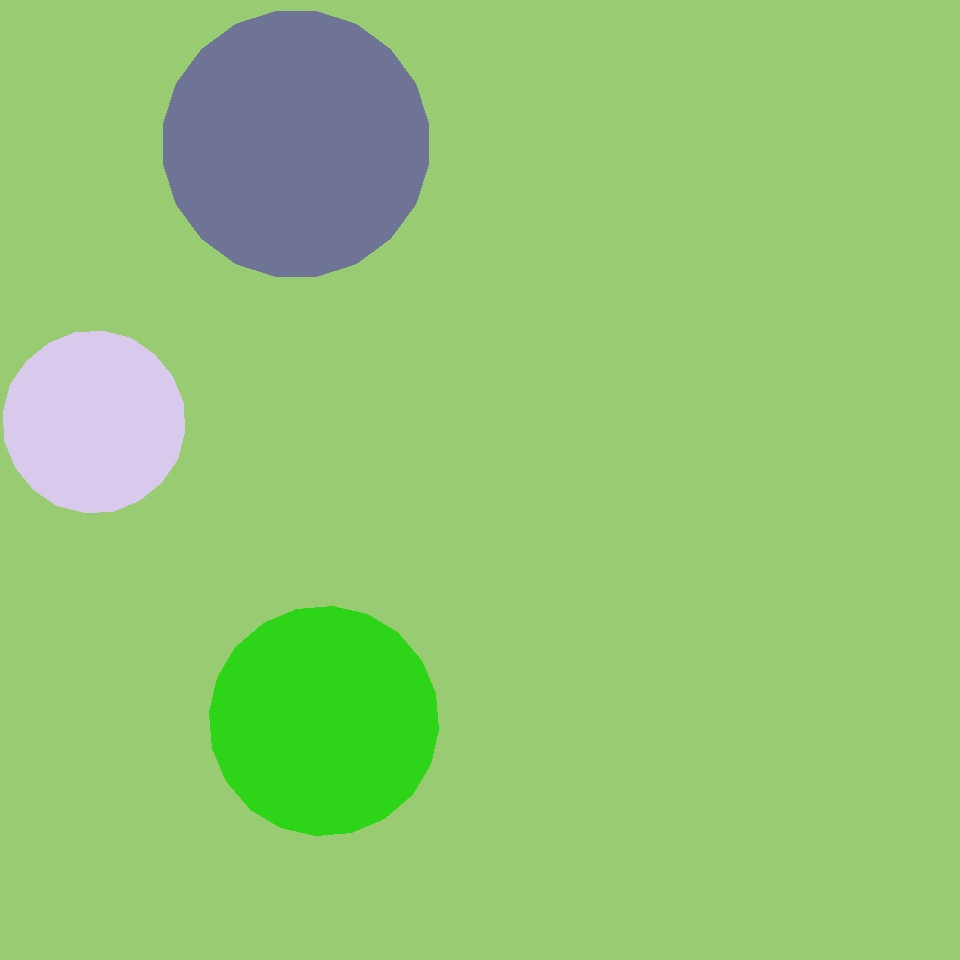square: (550, 606, 794, 850)
triangle: (164, 11, 429, 276), (204, 374, 457, 628), (210, 606, 438, 836), (4, 332, 184, 512)
